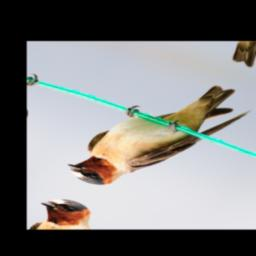Swallow: (60, 60, 256, 212)
